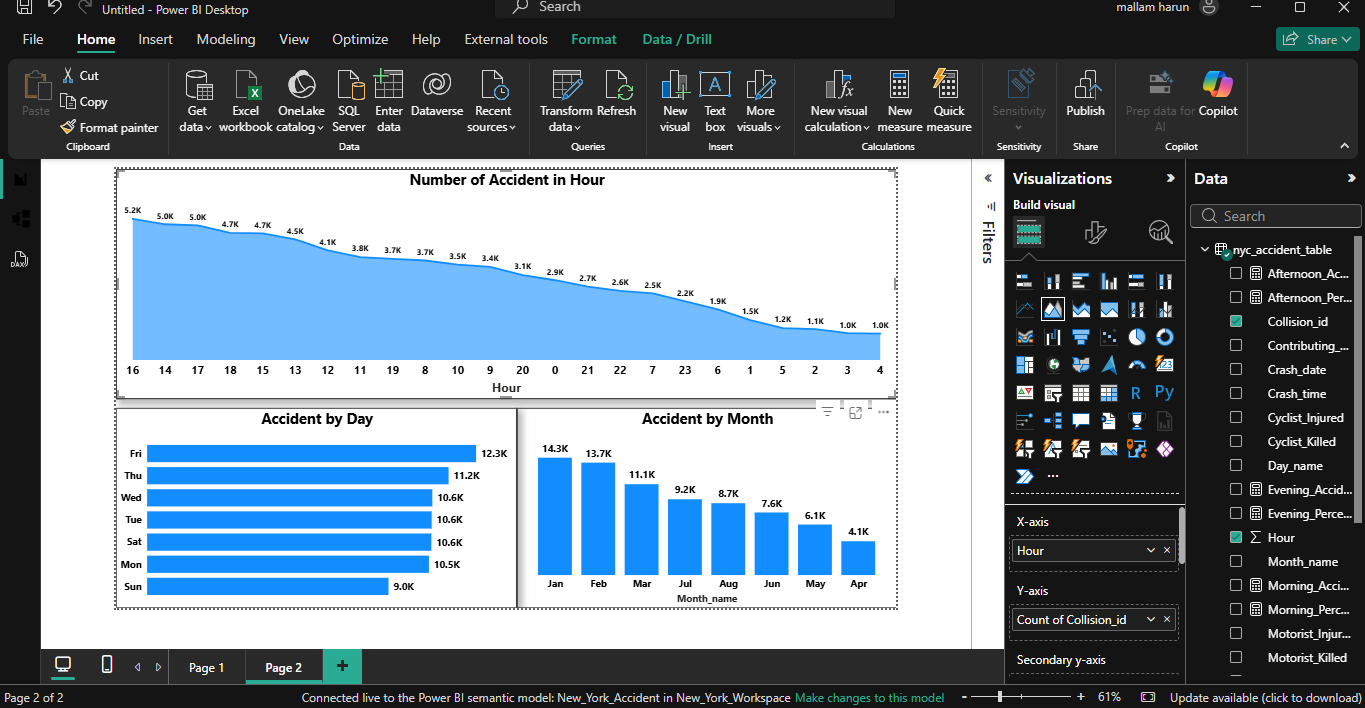

The dashboard page shown, as its layout file describes it:
{"tool":"powerbi","page":{"name":"Page 2","canvas":[1280,720],"ordinal":1},"visuals":[{"type":"columnChart","title":"Accident by Month","fields":{"Category":["nyc_accident_table.Month_name"],"Y":["Count(nyc_accident_table.Collision_id)"]},"box":[657.4,391.8,623,327.9],"z":0},{"type":"barChart","title":"Accident by Day","fields":{"Category":["nyc_accident_table.Day_name"],"Y":["CountNonNull(nyc_accident_table.Collision_id)"]},"box":[0,391.8,657.4,327.9],"z":1000},{"type":"areaChart","title":"Number of Accident in Hour","fields":{"Category":["nyc_accident_table.Hour"],"Y":["CountNonNull(nyc_accident_table.Collision_id)"]},"box":[0,0,1280.3,377],"z":1001}]}

Visuals, with their boxes on the page's 1280x720 design canvas (x1, y1, x2, y2). These are canvas units, not pixel positions in the 1365x708 screenshot, which may show the page scaled, cropped or inside an application window:
"Accident by Month" columnChart: select_region(657, 392, 1280, 720)
"Accident by Day" barChart: select_region(0, 392, 657, 720)
"Number of Accident in Hour" areaChart: select_region(0, 0, 1280, 377)
